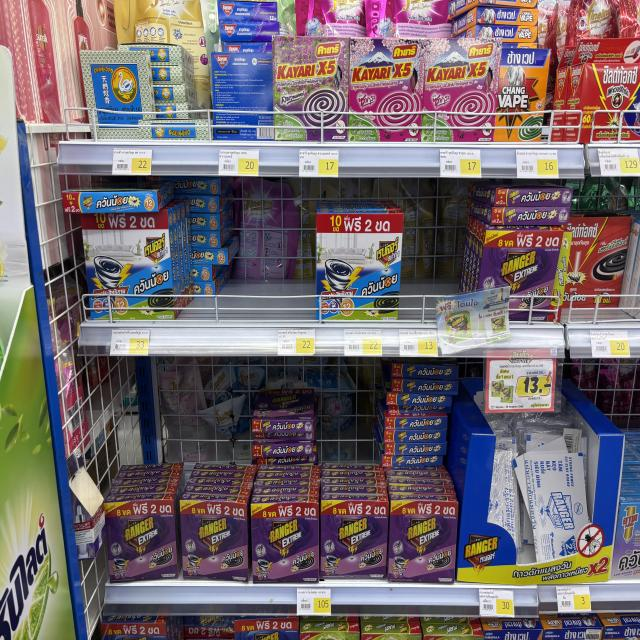empty_shelf: (183, 200, 318, 323), (400, 201, 481, 322)
